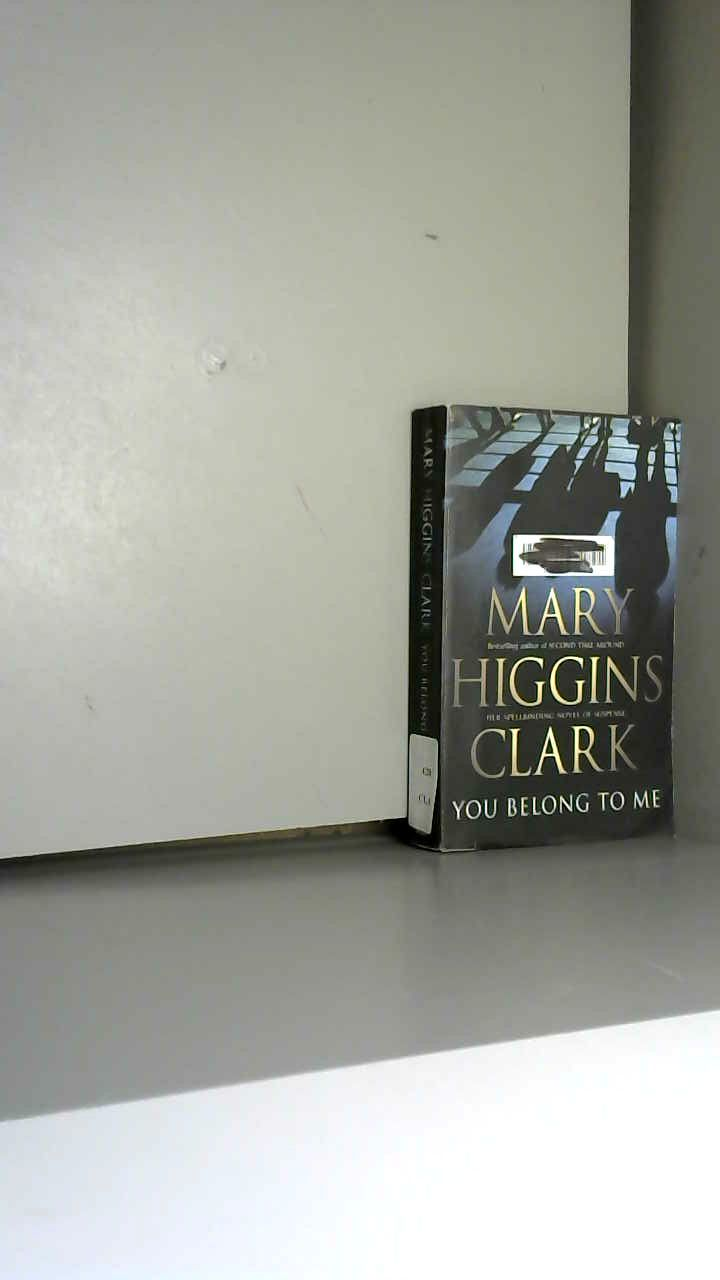book: (380, 370, 720, 868)
